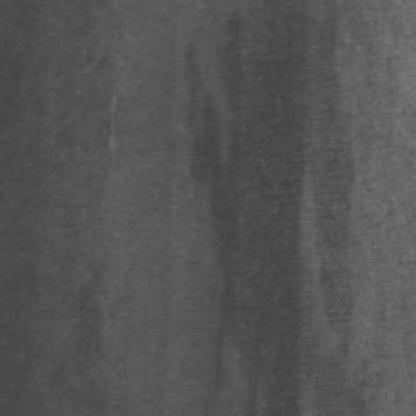inclusion: (179, 2, 256, 387)
